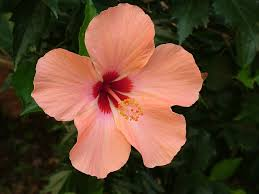hybiscus: (30, 3, 204, 178)
